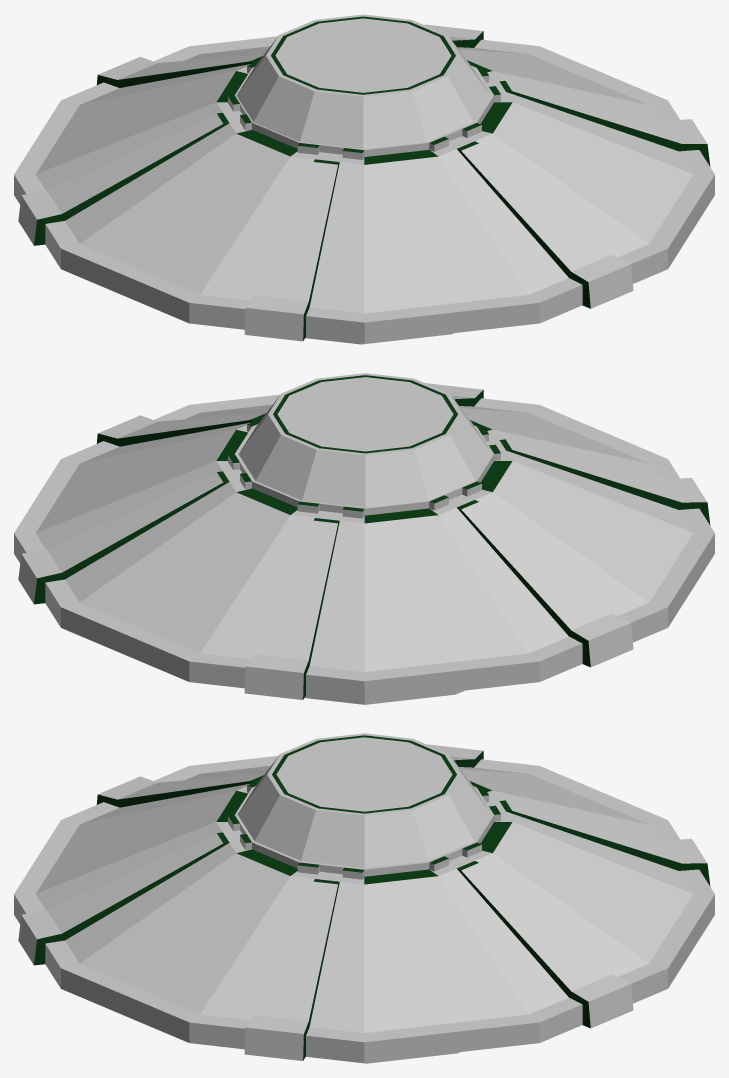
Rendered from ufo.obj.
3 views of the same model, one above another, from view 1: azimuth 30°, elevation 25°; view 2: azimuth 150°, elevation 25°; view 3: azimuth 270°, elevation 25° (orthographic).
Visible parts, largest first — view 1: ufo_Sphere.002_Metal, ufo_Sphere.002, ufo_Sphere.002_light; view 2: ufo_Sphere.002_Metal, ufo_Sphere.002, ufo_Sphere.002_light; view 3: ufo_Sphere.002_Metal, ufo_Sphere.002, ufo_Sphere.002_light.
Part boxes in pixels (x1=…): ufo_Sphere.002_Metal: x1=35, y1=14, x2=693, y2=344; ufo_Sphere.002: x1=14, y1=24, x2=714, y2=343; ufo_Sphere.002_light: x1=34, y1=16, x2=710, y2=340; ufo_Sphere.002_Metal: x1=35, y1=373, x2=693, y2=704; ufo_Sphere.002: x1=14, y1=383, x2=714, y2=701; ufo_Sphere.002_light: x1=34, y1=375, x2=710, y2=699; ufo_Sphere.002_Metal: x1=35, y1=733, x2=693, y2=1063; ufo_Sphere.002: x1=14, y1=744, x2=714, y2=1062; ufo_Sphere.002_light: x1=34, y1=735, x2=710, y2=1060.
Size of the model in its own units: 2 by 0.7142 by 2.
